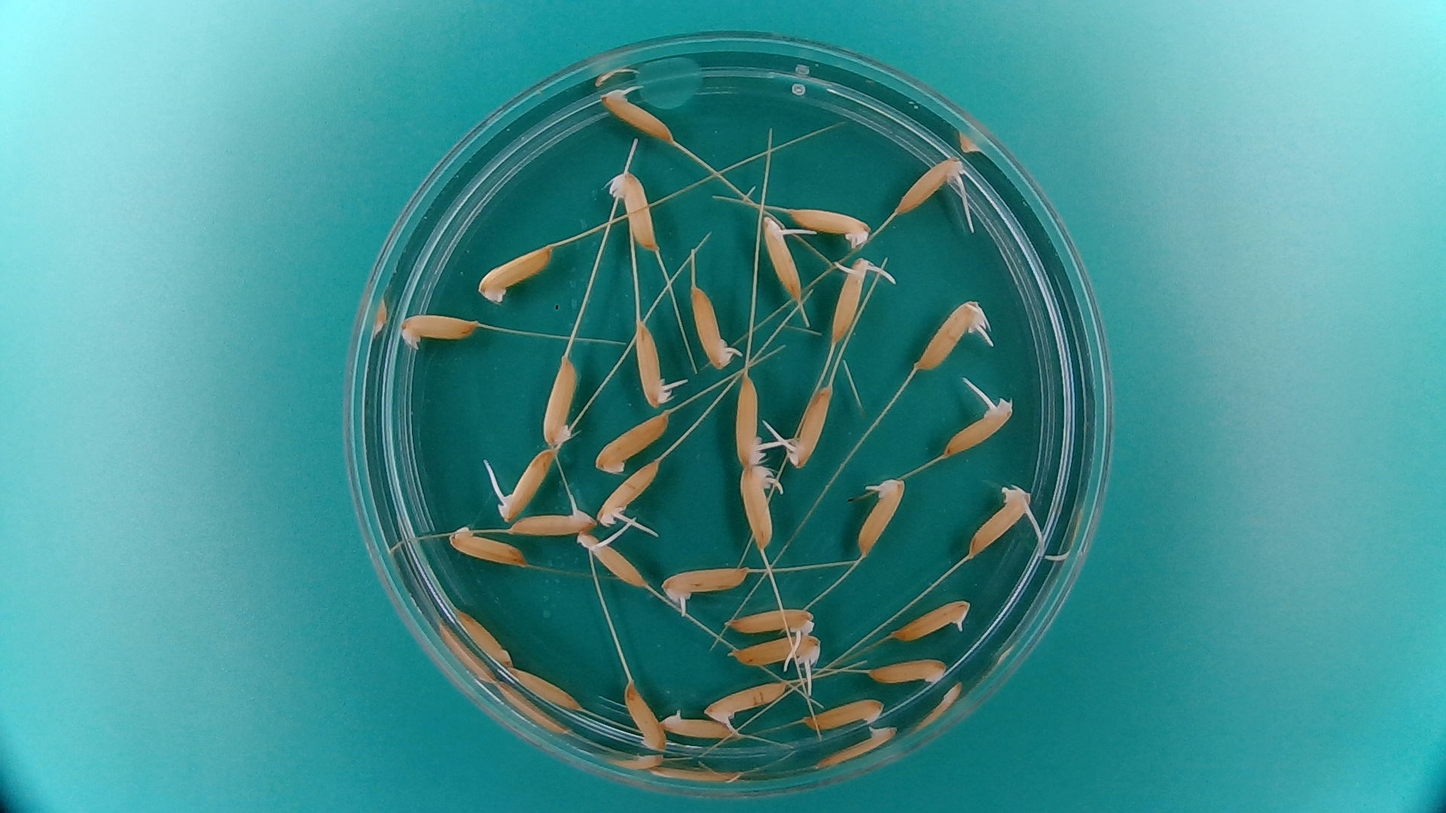no: (592, 409, 670, 475), (474, 242, 556, 303), (604, 166, 660, 253), (538, 352, 581, 448), (787, 202, 871, 249), (445, 522, 530, 568), (453, 604, 513, 667), (509, 664, 584, 712), (621, 680, 668, 752), (798, 695, 885, 733), (865, 656, 946, 688)
yes: (963, 488, 1037, 564), (596, 458, 663, 541), (914, 301, 987, 373), (703, 678, 795, 735), (892, 155, 977, 216), (492, 443, 557, 522), (596, 87, 682, 145), (660, 561, 755, 611), (940, 394, 1014, 458), (689, 279, 739, 373), (853, 473, 907, 559), (781, 380, 834, 467), (576, 531, 649, 592), (830, 259, 880, 346), (760, 213, 805, 309), (633, 318, 679, 410), (716, 603, 819, 644), (889, 595, 975, 643), (728, 631, 822, 674), (393, 307, 480, 351), (731, 373, 773, 464), (506, 498, 596, 538), (739, 461, 779, 549), (658, 708, 740, 742)
